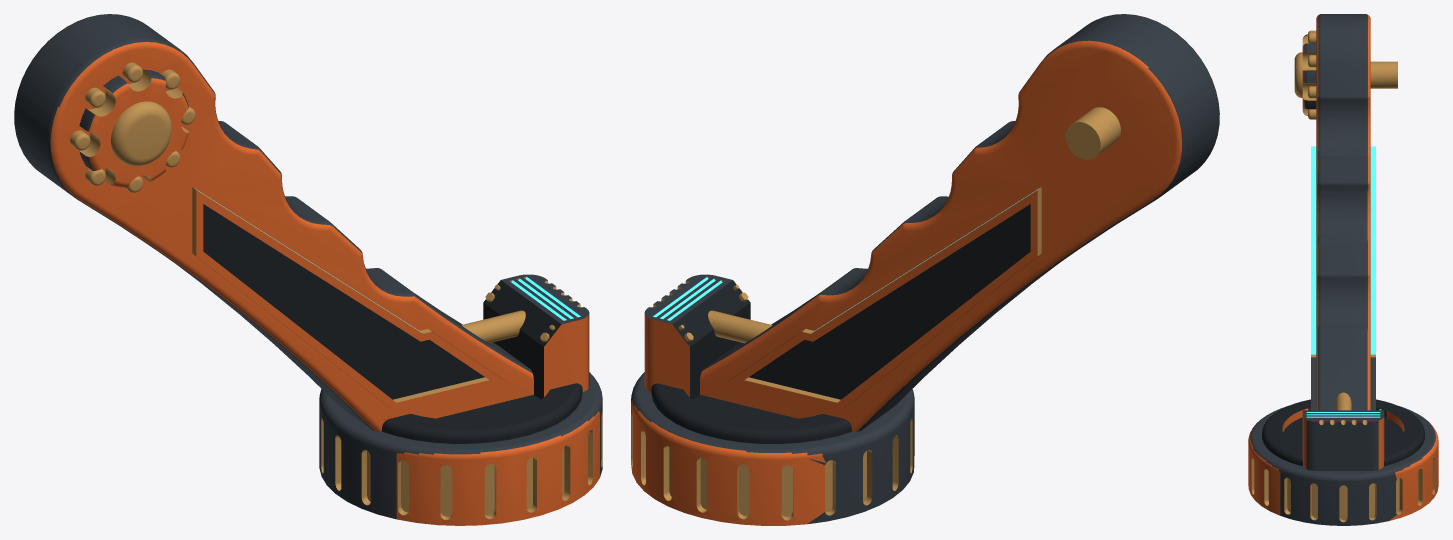
Rendered from lower-arm-link.glb.
3 views of the same model, side by side, from view 1: azimuth 30°, elevation 25°; view 2: azimuth 150°, elevation 25°; view 3: azimuth 270°, elevation 25° (orthographic). The views are drawn at different scales.
Bounding box in the file's own units: 0.1575 × 0.1425 × 0.07.
